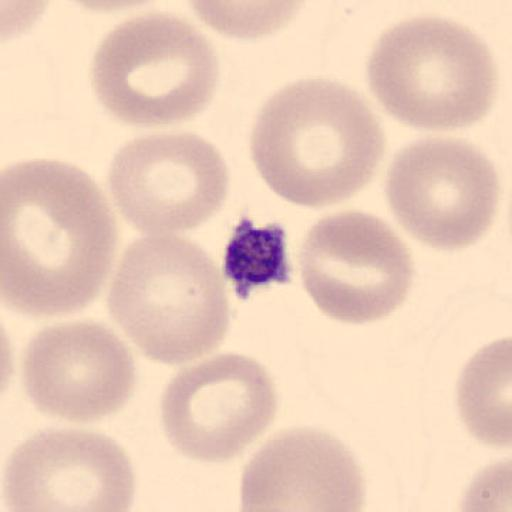Platelet: (219, 216, 294, 302)
RBC: (0, 155, 117, 319), (248, 75, 385, 211), (106, 230, 231, 368), (365, 11, 498, 134), (90, 9, 220, 129), (297, 209, 417, 326), (382, 134, 500, 252), (158, 350, 280, 464), (105, 129, 231, 239), (19, 318, 137, 425), (1, 426, 137, 512), (237, 424, 366, 512), (453, 335, 512, 449), (179, 0, 312, 42), (455, 457, 512, 512), (1, 0, 56, 42), (51, 0, 167, 16), (1, 319, 16, 399)
